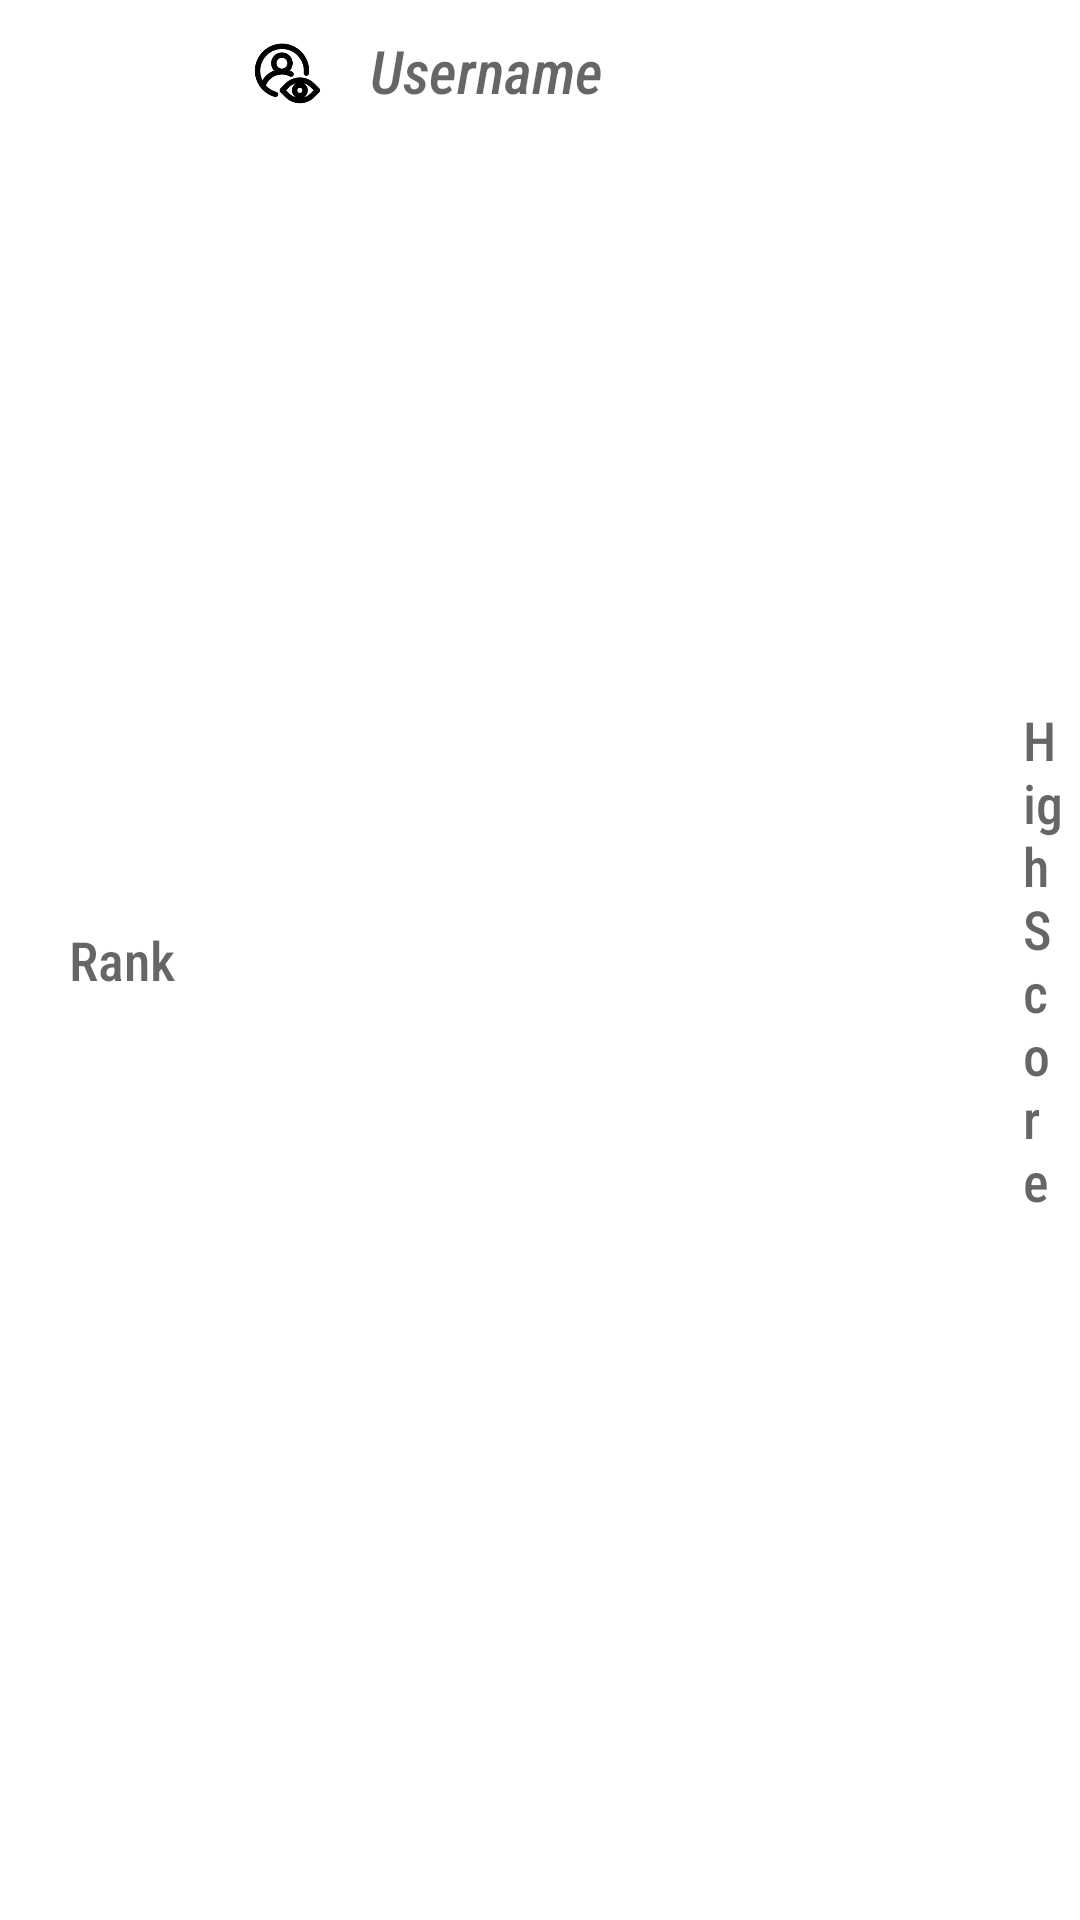

Icon click points for this 1080 × 1920 phone screenshot, format [x,y]:
profile: [287,73]
